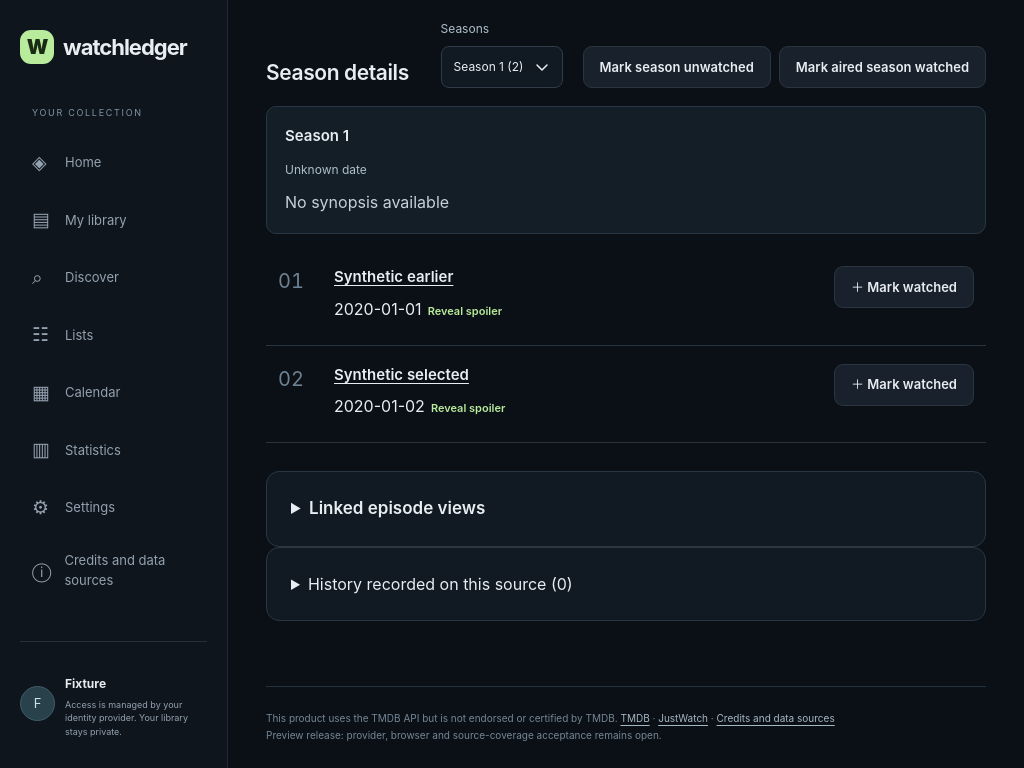
Test: tracking cancellation via button makes no private write
(page scrolled)
Click the button "＋ Mark watched" in the row of "Synthetic selected": (904, 385) [834,364,974,406]
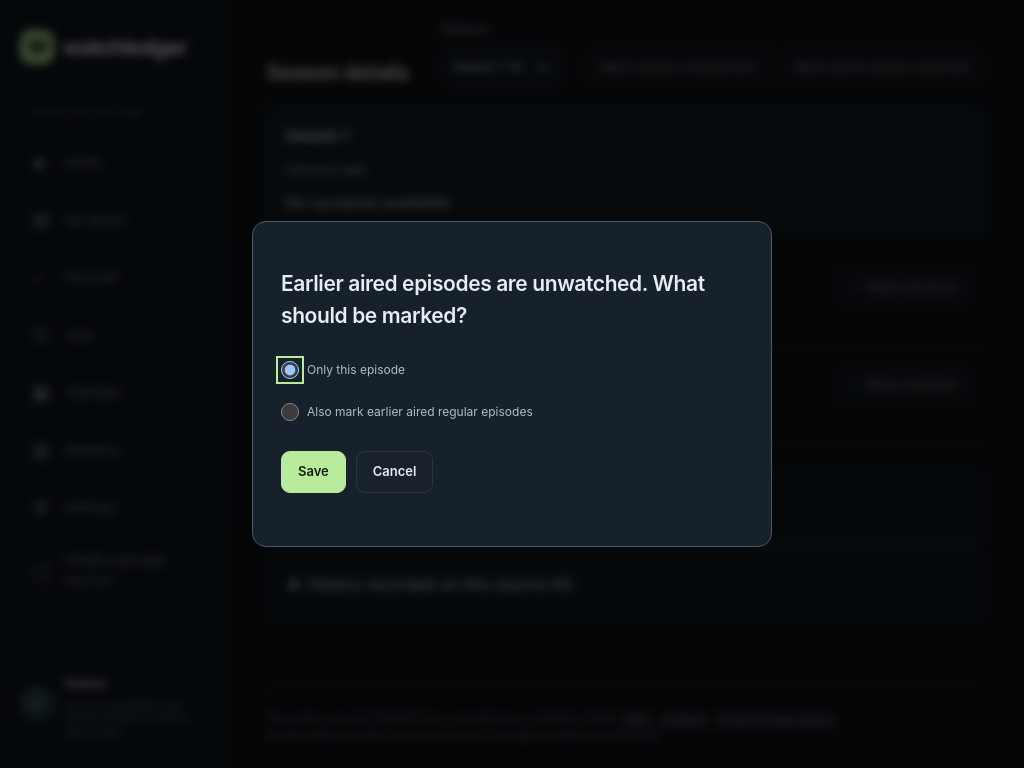
Click the button "Cancel": (395, 472) [356,451,434,493]
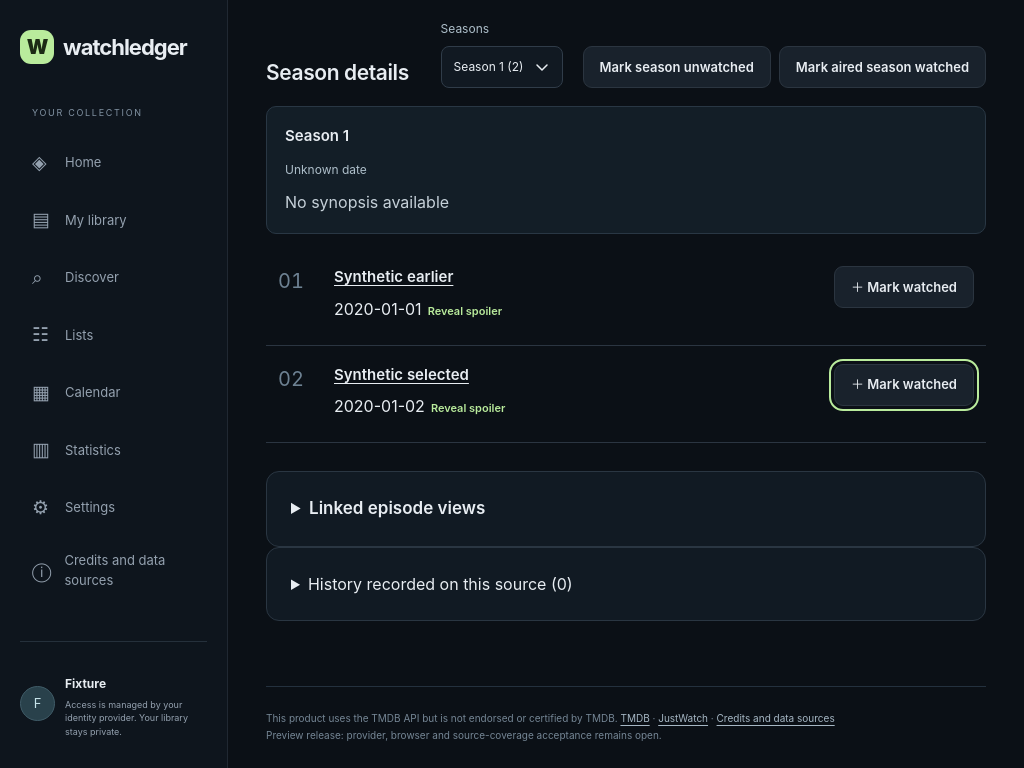
Expected: the dialog is gone
Expected: the button "＋ Mark watched" in the row of "Synthetic selected" is enabled, [834,364,974,406]
